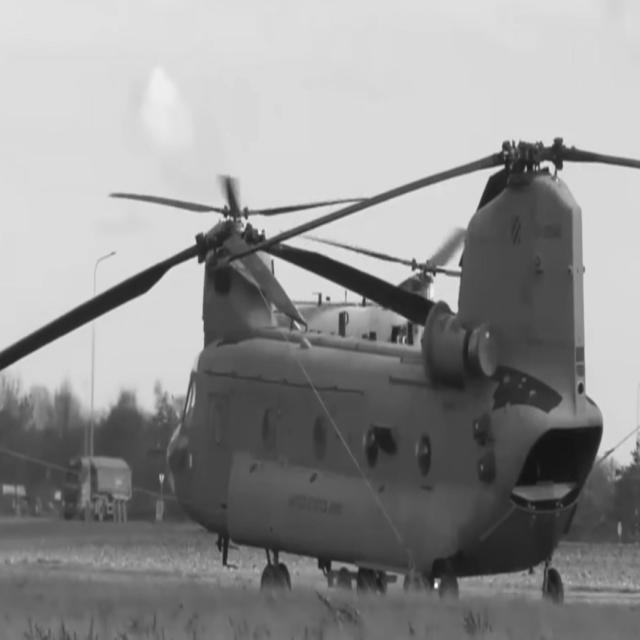Helicopter: (0, 139, 639, 590)
